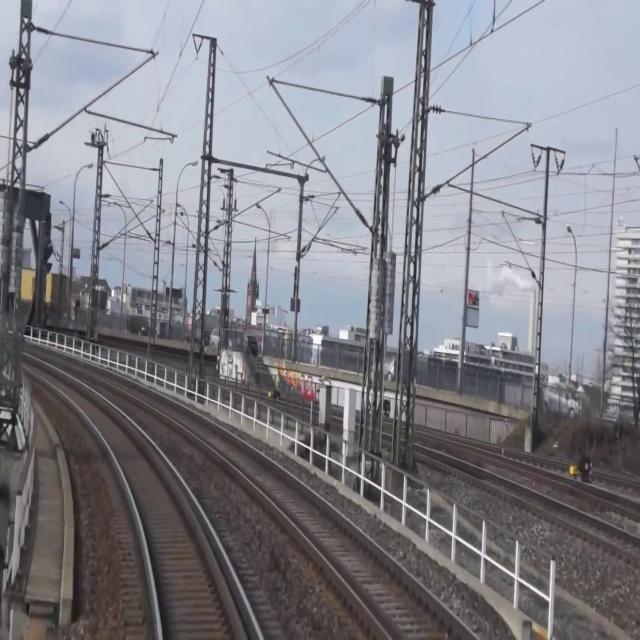rail-track: (32, 347, 472, 639), (22, 354, 259, 639), (452, 462, 640, 552)
